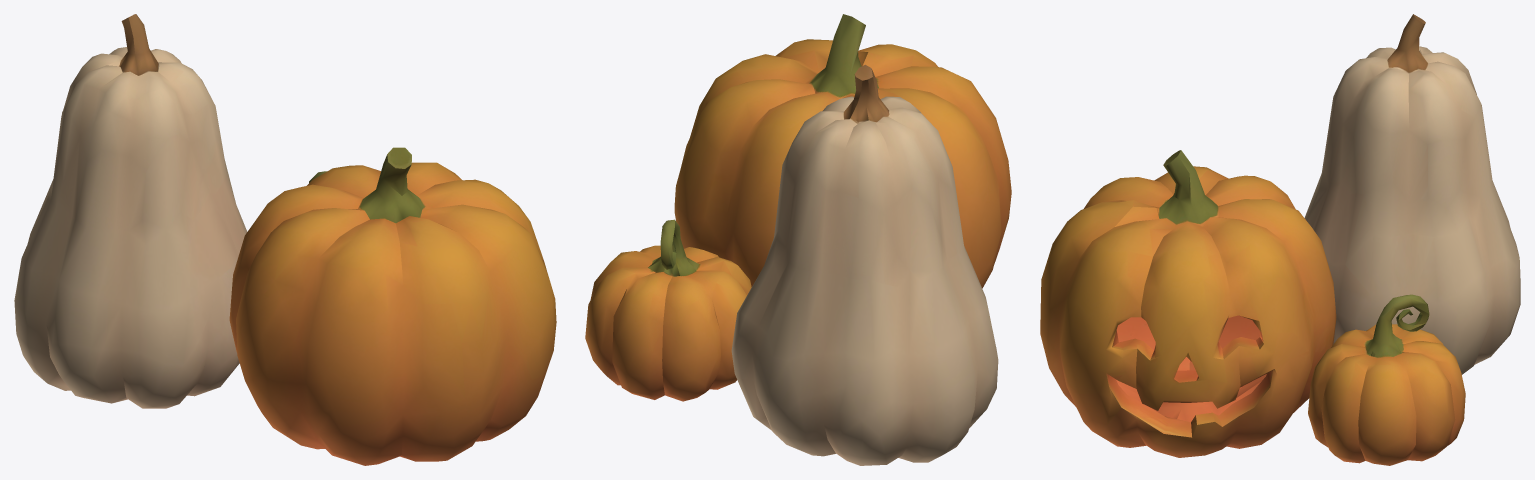
The model's file is S8_PumpkinPile_LOD2.fbx.
3 renders of one model, left to right at view 1: azimuth 30°, elevation 25°; view 2: azimuth 150°, elevation 25°; view 3: azimuth 270°, elevation 25°, orthographic. The views are drawn at different scales.
Parts seen in each view (by area): view 1: S8_PumpkinPile_LOD2; view 2: S8_PumpkinPile_LOD2; view 3: S8_PumpkinPile_LOD2.
Boxes of the visible parts, <box> form: S8_PumpkinPile_LOD2: <box>14,14,556,465</box>; S8_PumpkinPile_LOD2: <box>585,14,1011,465</box>; S8_PumpkinPile_LOD2: <box>1040,14,1520,465</box>.
Bounding box in the file's own units: 0.6151 × 0.5522 × 0.6978.
Materials: 1 (1 with a texture image).
